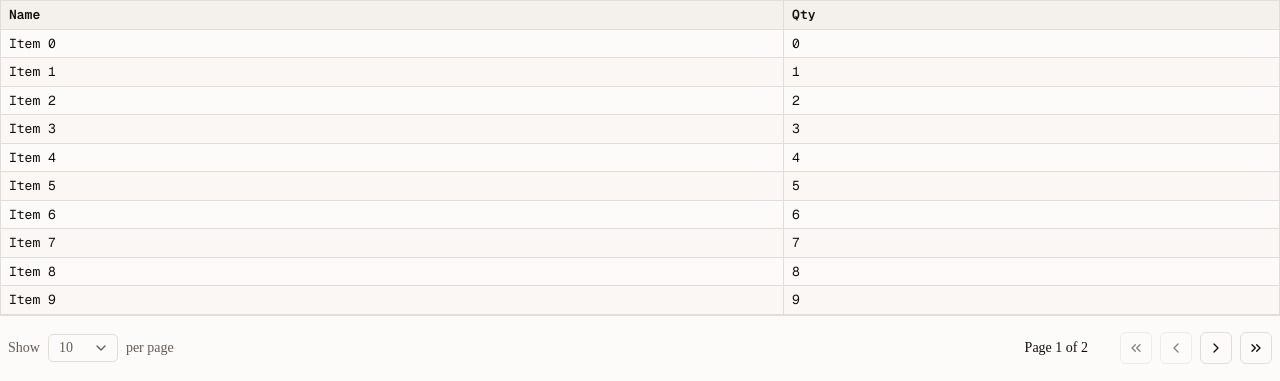
Test case: DataGrid › supports pagination
Expected: the text "Item 0" is shown, top-left (0, 29), bottom-right (784, 58)
Expected: the text "Item 9" is shown, top-left (0, 286), bottom-right (784, 314)
Go to next page
Click the 3rd button named "next page". click: [1216, 348]
box: top-left (1200, 332), bottom-right (1232, 364)
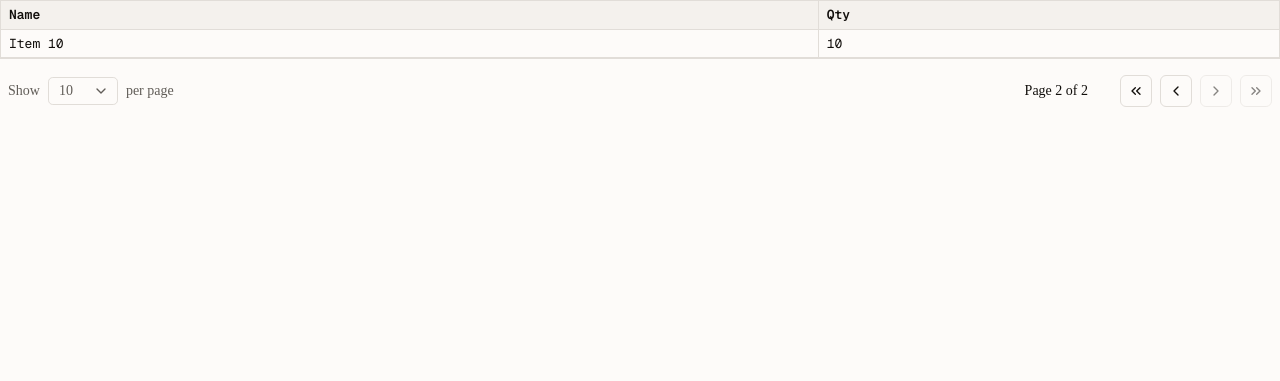
Expected: the text "Item 10" is shown, top-left (0, 29), bottom-right (818, 58)
Expected: the text "Item 0" is gone
Expected: the text "Page 2 of 2" is shown, top-left (1025, 81), bottom-right (1088, 101)
